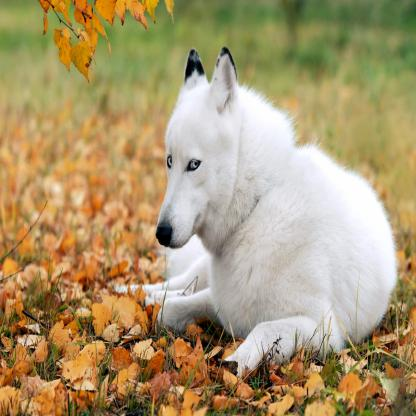dog: (116, 45, 398, 374)
